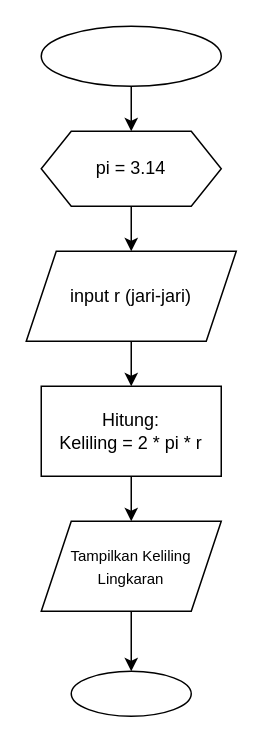
Image size: 263x743. Some labels were removed from this diagram. Each missing label, with the centre of its shape:
Mulai: point 130,55
Selesai: point 130,693
